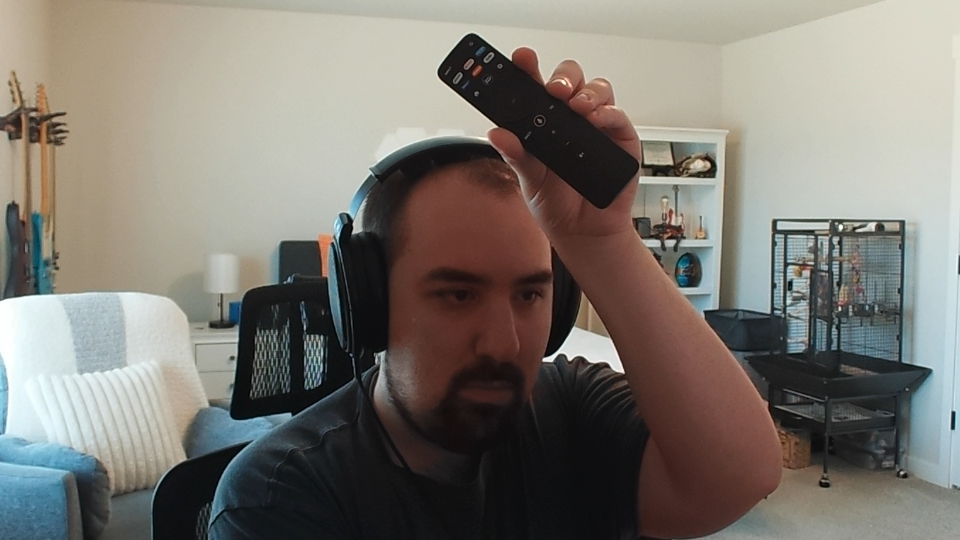TVRemote: (436, 32, 640, 210)
